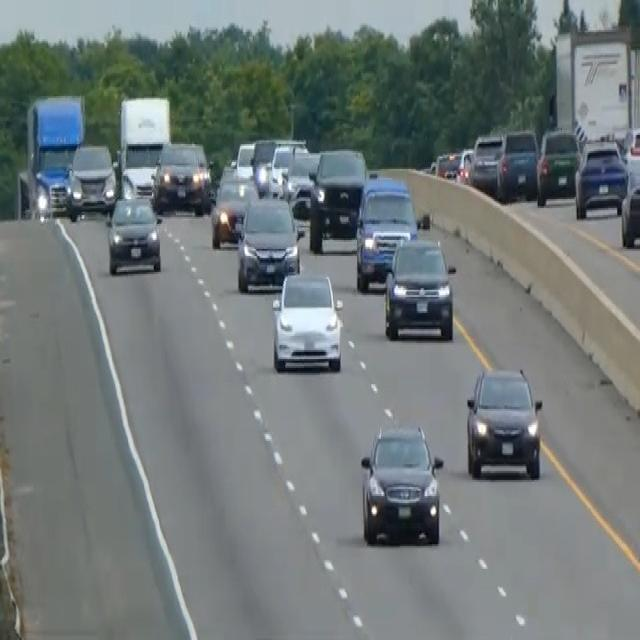car: (358, 420, 444, 546), (464, 364, 543, 480), (383, 235, 456, 341), (271, 268, 344, 374), (354, 174, 418, 292), (235, 194, 302, 292), (308, 144, 367, 251), (470, 126, 539, 201), (105, 192, 162, 276), (574, 135, 628, 219), (151, 139, 210, 215), (66, 140, 116, 220), (210, 171, 259, 247), (535, 124, 580, 204), (284, 151, 321, 219), (268, 140, 306, 196), (469, 130, 503, 192), (250, 135, 277, 192), (620, 169, 639, 247), (234, 138, 255, 180)
lorry: (18, 90, 86, 218), (114, 92, 172, 198)
